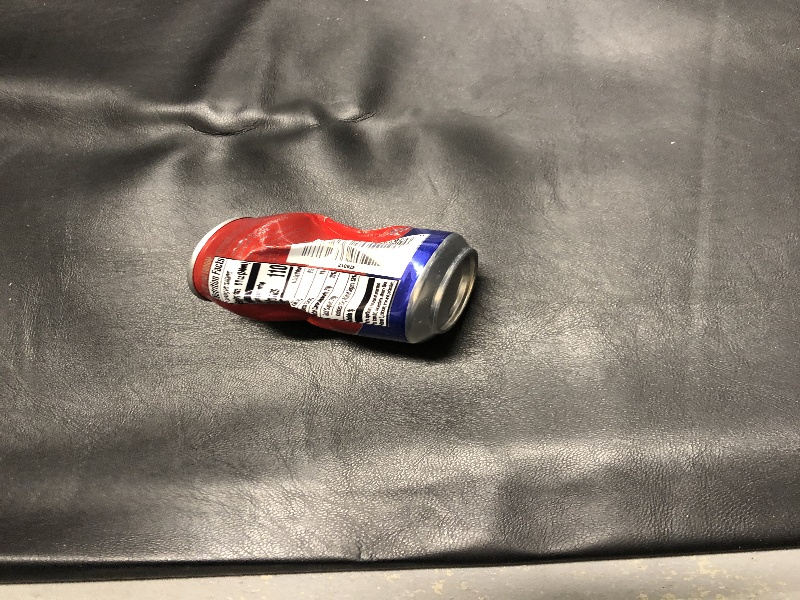metal: (176, 196, 488, 353)
